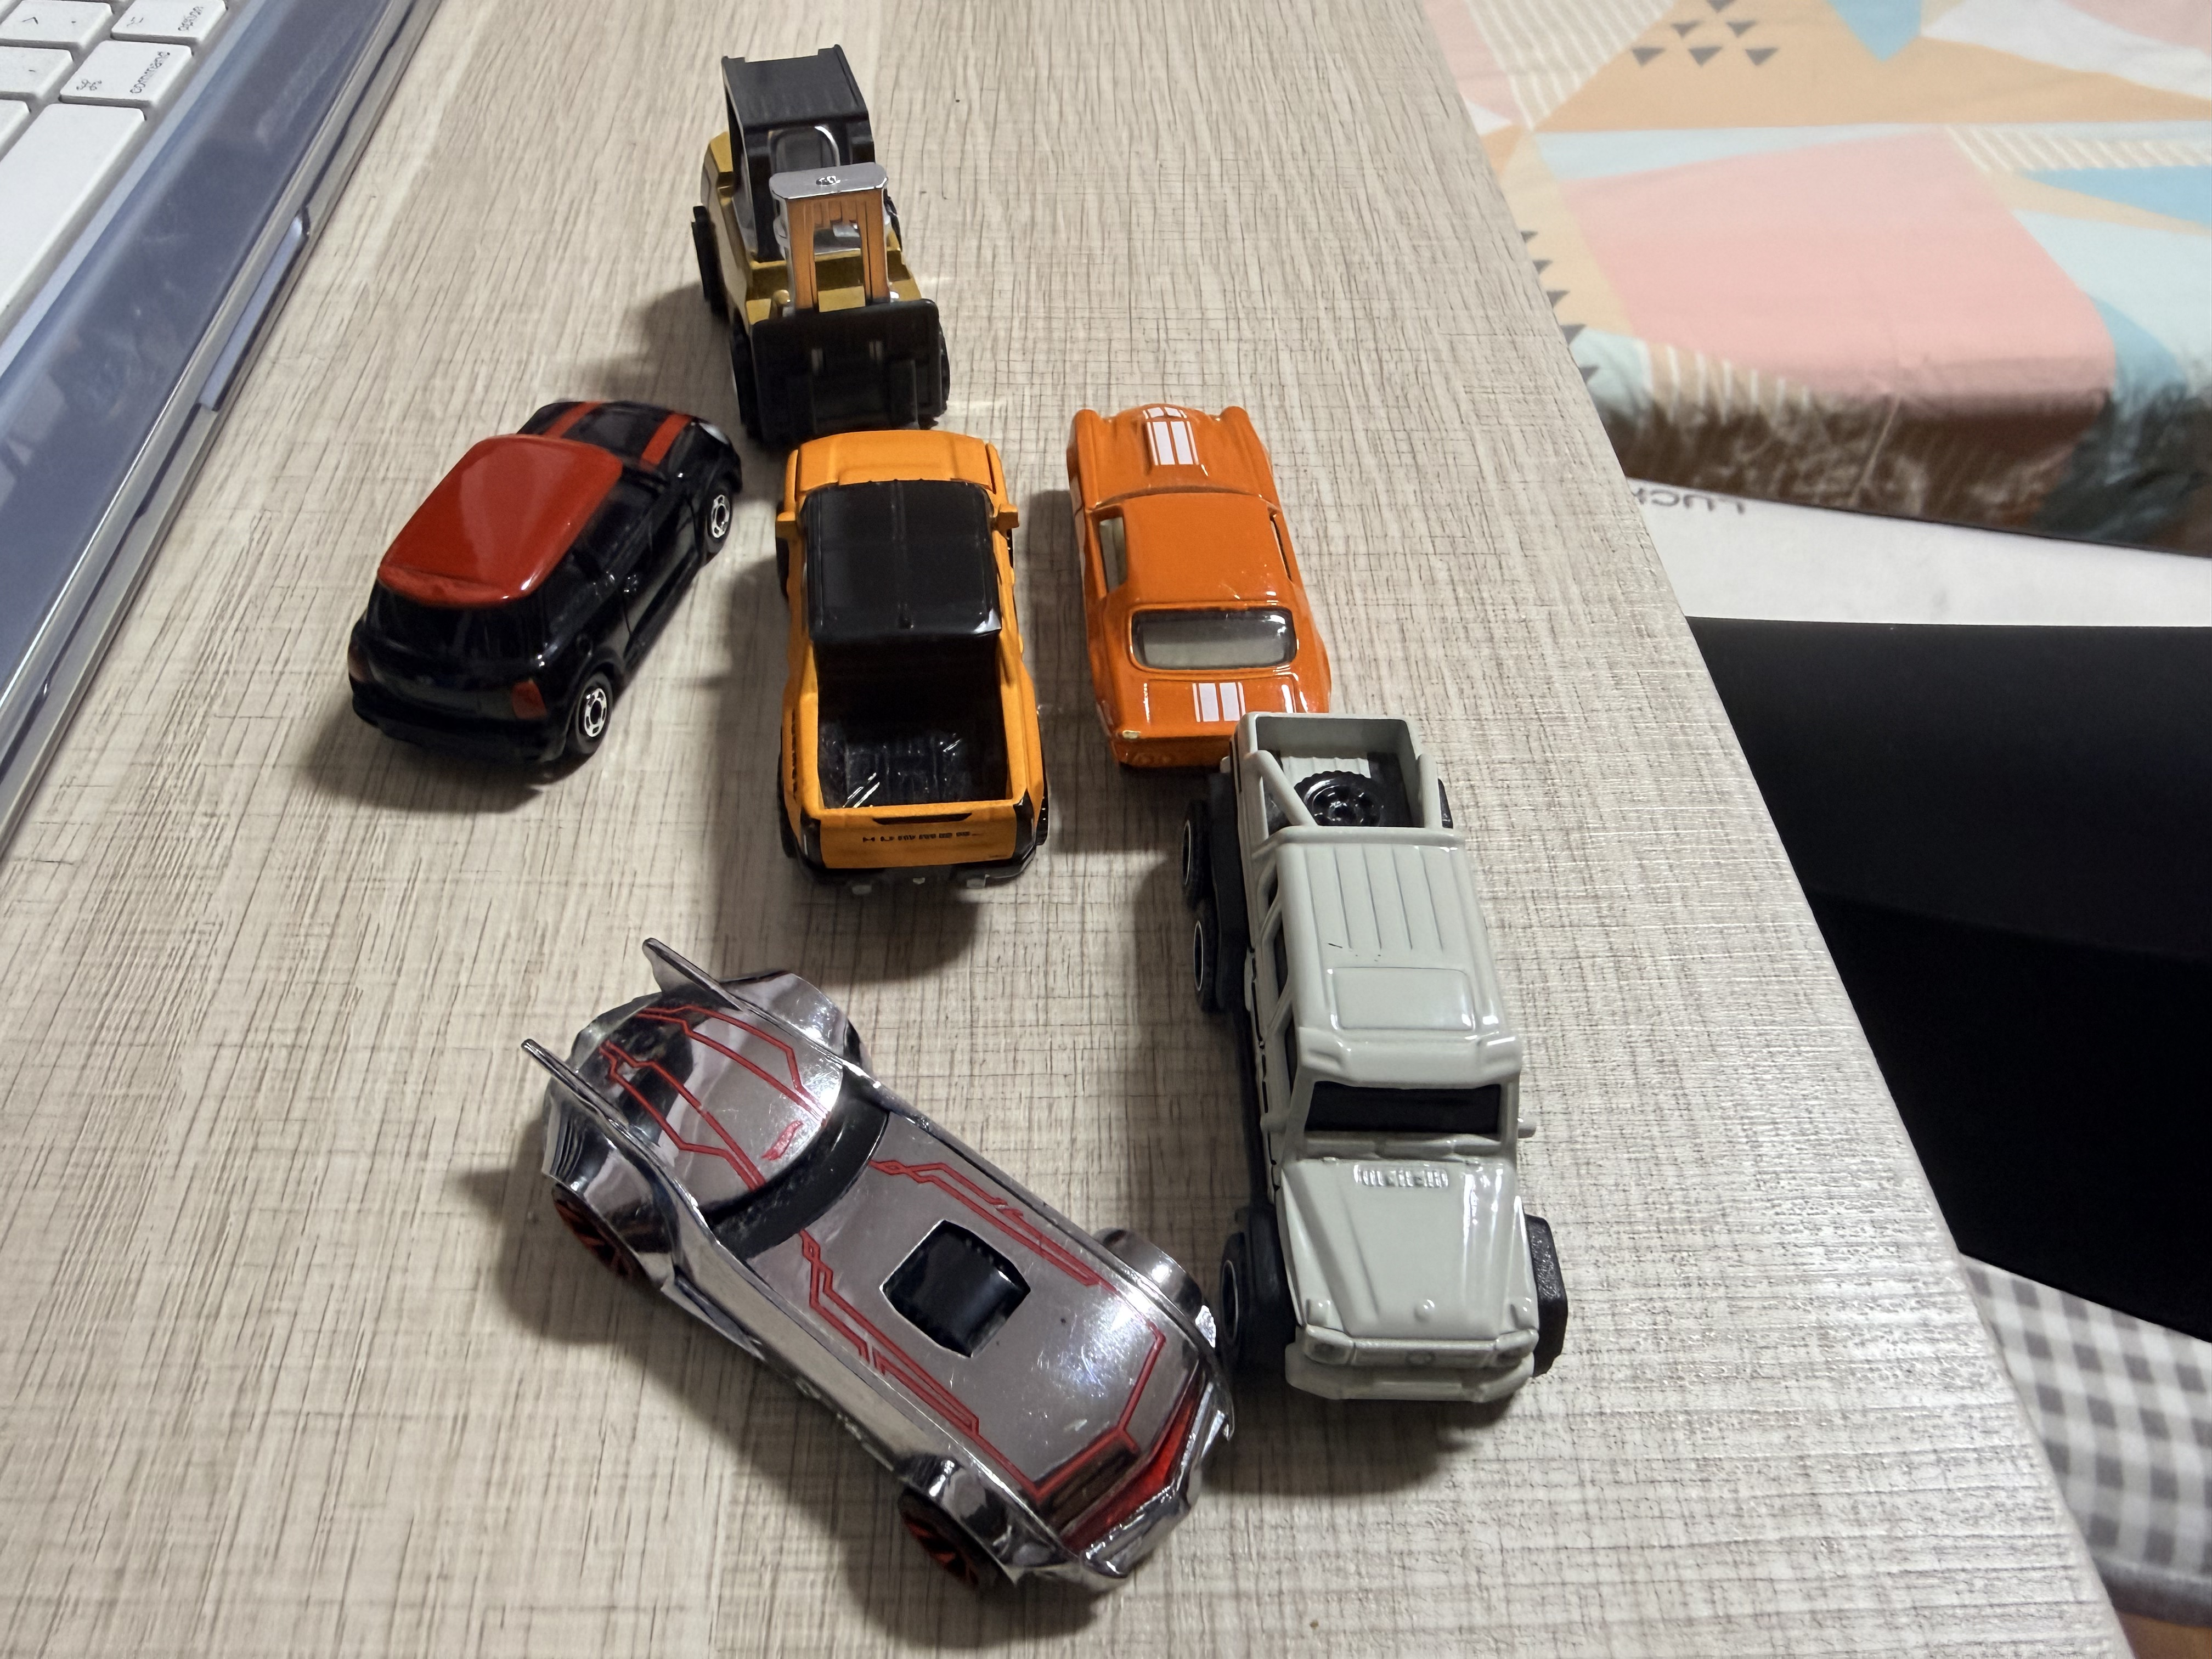camaro_rs: (1062, 399, 1336, 786)
dc_comics: (516, 936, 1237, 1603)
forklift: (688, 42, 956, 443)
gmc_hummer: (766, 425, 1052, 910)
mercedes_benz: (1172, 706, 1569, 1420)
mini_cooper: (334, 397, 745, 791)
